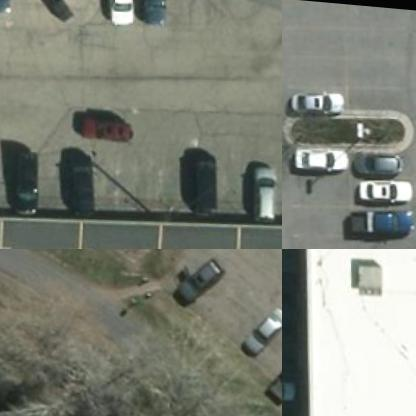car: (71, 100, 132, 146), (170, 249, 227, 297), (4, 142, 42, 210), (354, 194, 414, 232), (239, 294, 281, 347), (187, 148, 220, 214), (63, 152, 97, 214), (288, 78, 344, 114), (291, 133, 347, 169), (351, 136, 407, 172), (355, 165, 411, 201), (253, 156, 279, 218), (262, 329, 281, 397), (98, 0, 135, 24), (134, 0, 169, 24), (282, 370, 300, 398), (0, 0, 14, 18)
